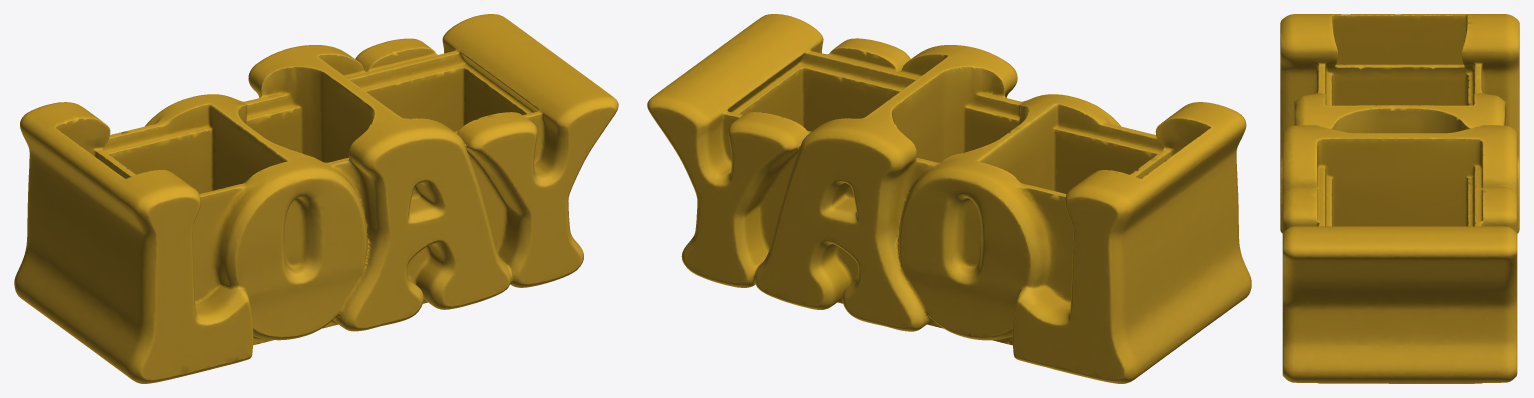
The model's file is Meshy_AI_Golden_Loay_Planter_1106141659_texture.glb.
The picture shows the model from 3 angles, left to right: view 1: azimuth 30°, elevation 25°; view 2: azimuth 150°, elevation 25°; view 3: azimuth 270°, elevation 25°; orthographic projection. The views are drawn at different scales.
Size of the model in its own units: 1.9 by 0.7144 by 0.8487.
1 material, 1 textured.
